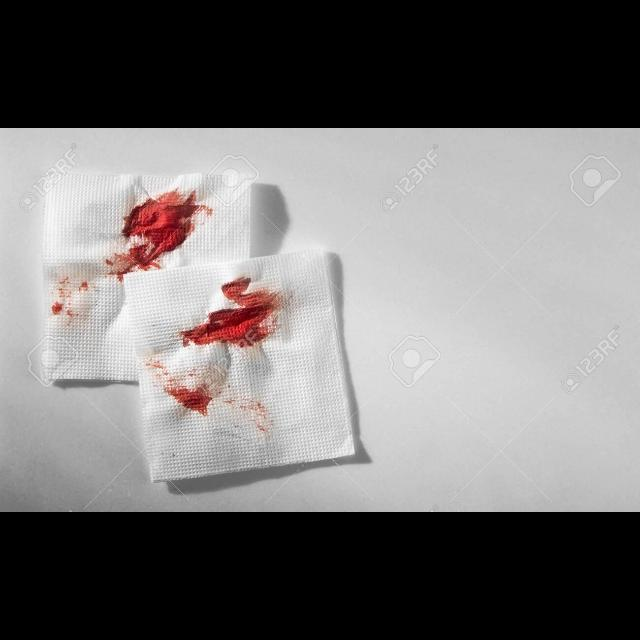blood: (146, 277, 284, 416), (105, 189, 211, 280), (49, 277, 93, 335)
